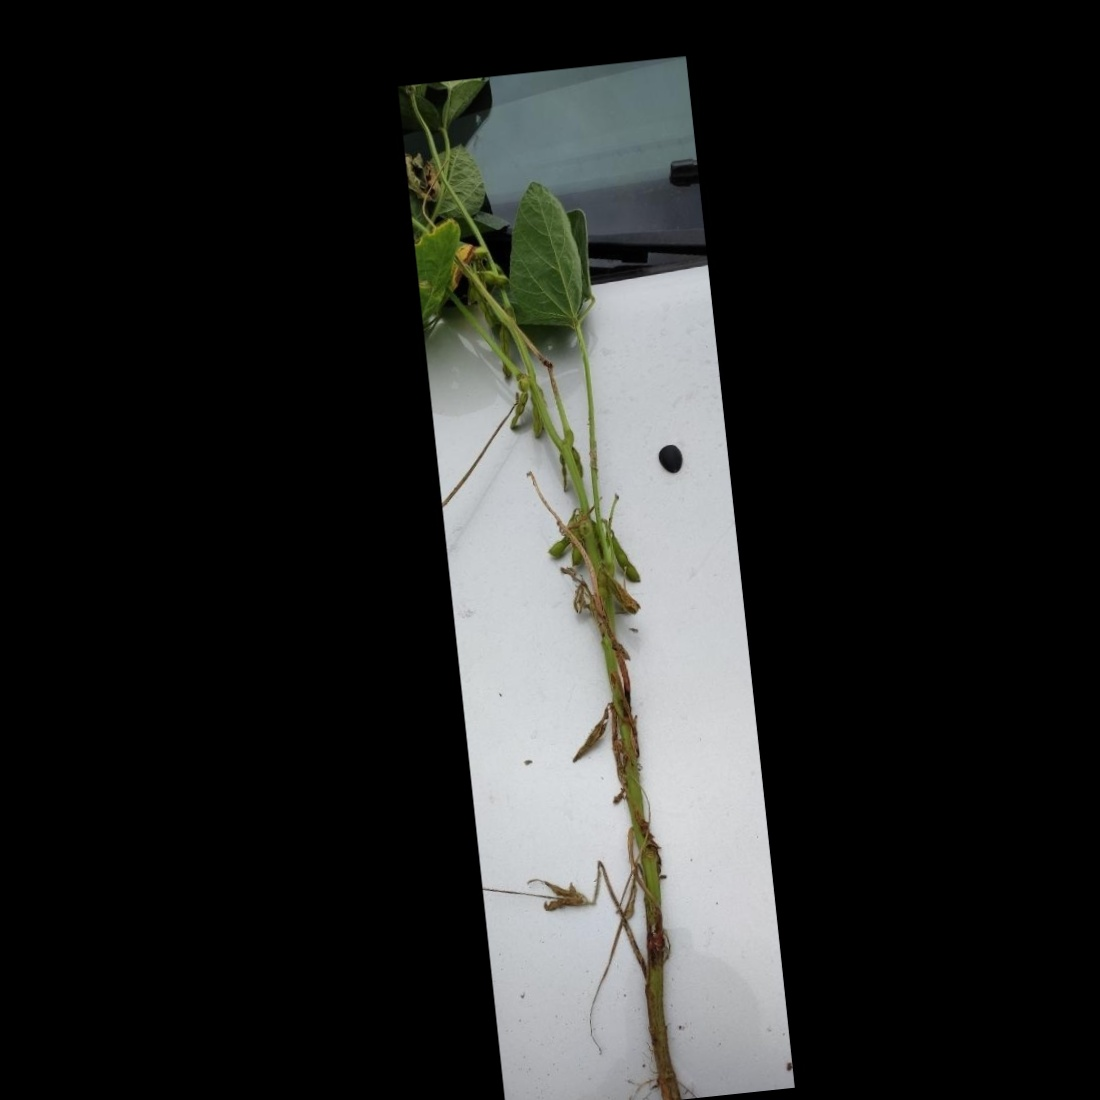pod: (612, 528, 642, 586), (507, 390, 533, 431), (478, 267, 512, 288), (543, 535, 572, 558)
soy: (420, 135, 733, 1100)
